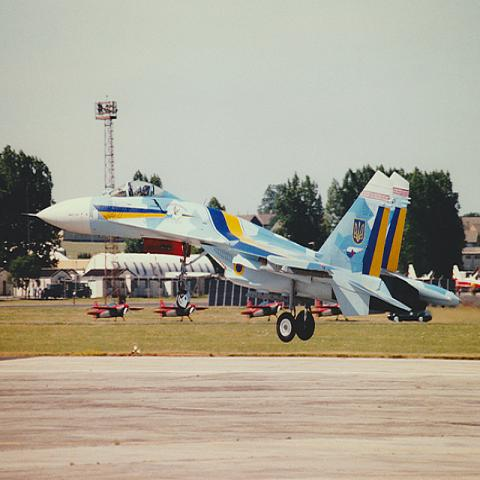car: (387, 310, 433, 324)
truck: (40, 279, 93, 300)
